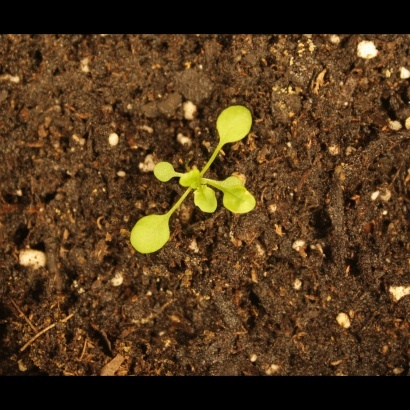leaf: (202, 95, 265, 149), (118, 210, 182, 255), (218, 185, 269, 225), (147, 152, 180, 187), (191, 189, 223, 215), (179, 166, 207, 195), (215, 172, 249, 195)
